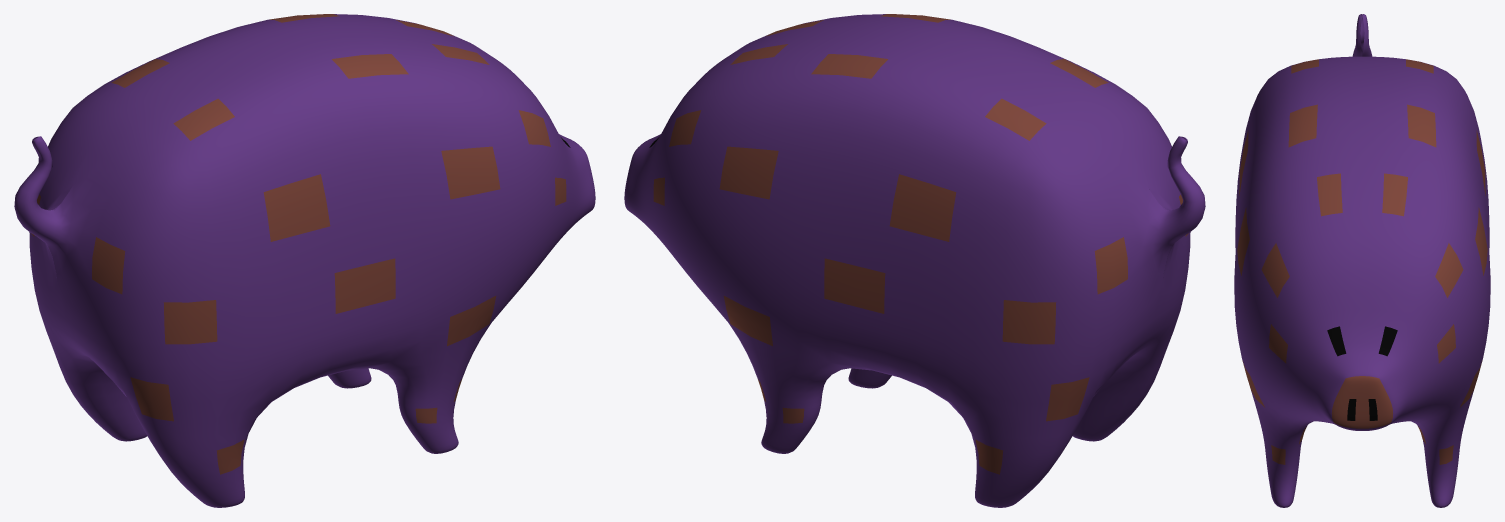
Rendered from purple_pig.fbx.
The picture shows the model from 3 angles, left to right: view 1: azimuth 30°, elevation 25°; view 2: azimuth 150°, elevation 25°; view 3: azimuth 270°, elevation 25°; orthographic projection. The views are drawn at different scales.
Visible parts, largest first — view 1: purple_pig; view 2: purple_pig; view 3: purple_pig.
Part boxes in pixels (x1=…): purple_pig: x1=14, y1=14, x2=595, y2=507; purple_pig: x1=624, y1=14, x2=1205, y2=507; purple_pig: x1=1234, y1=14, x2=1490, y2=507.
Size of the model in its own units: 489 by 332 by 214.
